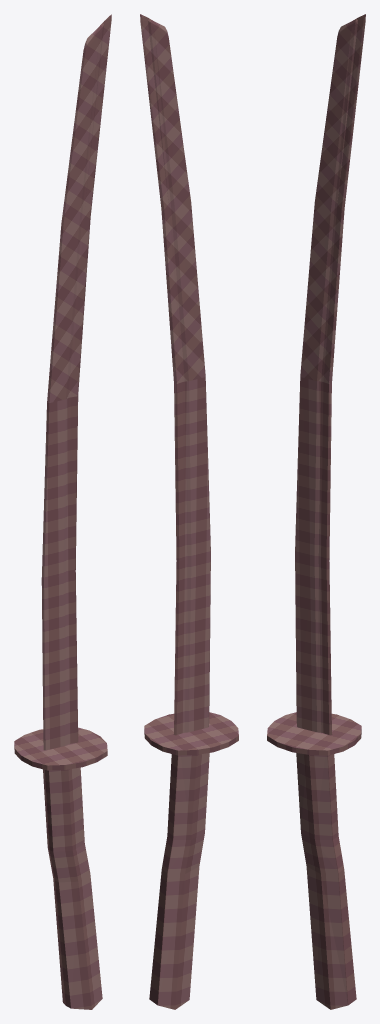
The model's file is 309_Sword_MD.fbx.
The picture shows the model from 3 angles, left to right: view 1: azimuth 30°, elevation 25°; view 2: azimuth 210°, elevation 25°; view 3: azimuth 330°, elevation 25°; orthographic projection.
Parts seen in each view (by area): view 1: Plane002; view 2: Plane002; view 3: Plane002.
Boxes of the visible parts, left/top/right/bottom form: Plane002: left=14, top=14, right=111, bottom=1009; Plane002: left=140, top=14, right=238, bottom=1009; Plane002: left=267, top=14, right=365, bottom=1009.
Size of the model in its own units: 8.19 by 85.21 by 6.92.
Materials: 1 (1 with a texture image).
